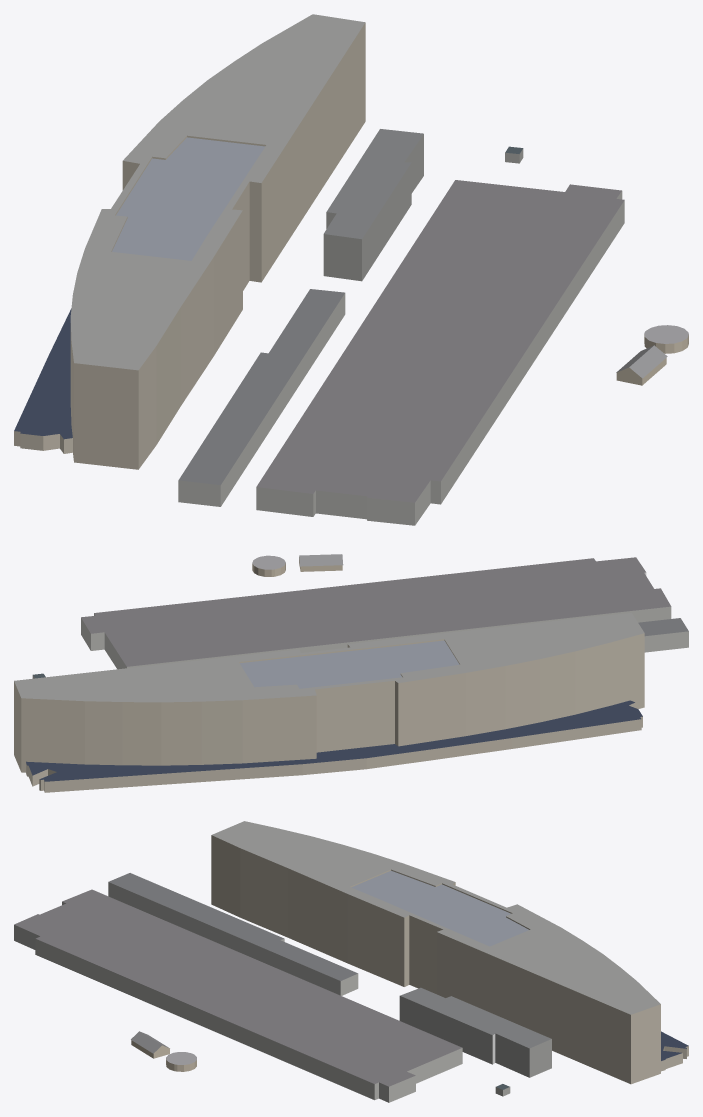
3 views of the same model, one above another, from view 1: azimuth 30°, elevation 25°; view 2: azimuth 150°, elevation 25°; view 3: azimuth 270°, elevation 25° (orthographic). The views are drawn at different scales.
Visible parts, largest first — view 1: tuile; view 2: tuile; view 3: tuile.
Part boxes in pixels (<box>): tuile: <box>14,14,688,525</box>; tuile: <box>14,554,688,792</box>; tuile: <box>14,821,688,1102</box>.
Bounding box in the file's own units: 312 × 43.64 × 384.
